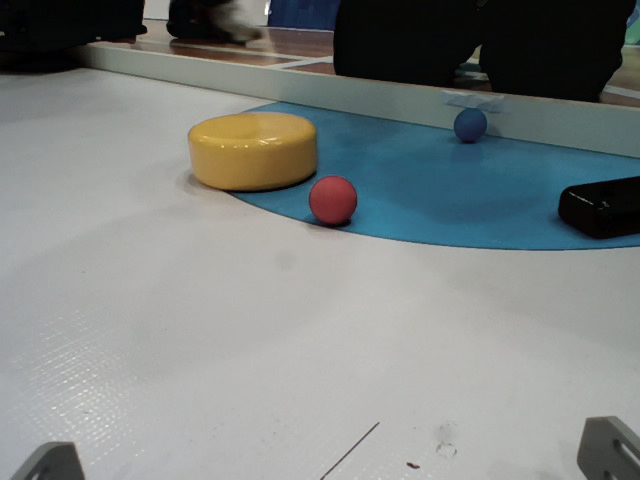black: (557, 169, 640, 242)
blue: (451, 107, 488, 140)
red: (304, 174, 360, 226)
yellow: (179, 111, 311, 190)
